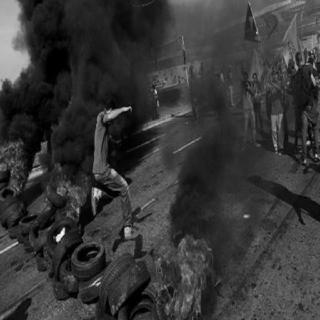Fire: (154, 214, 222, 318), (0, 107, 34, 196), (51, 152, 91, 225)
Smoke: (19, 0, 152, 112), (53, 111, 104, 165)
